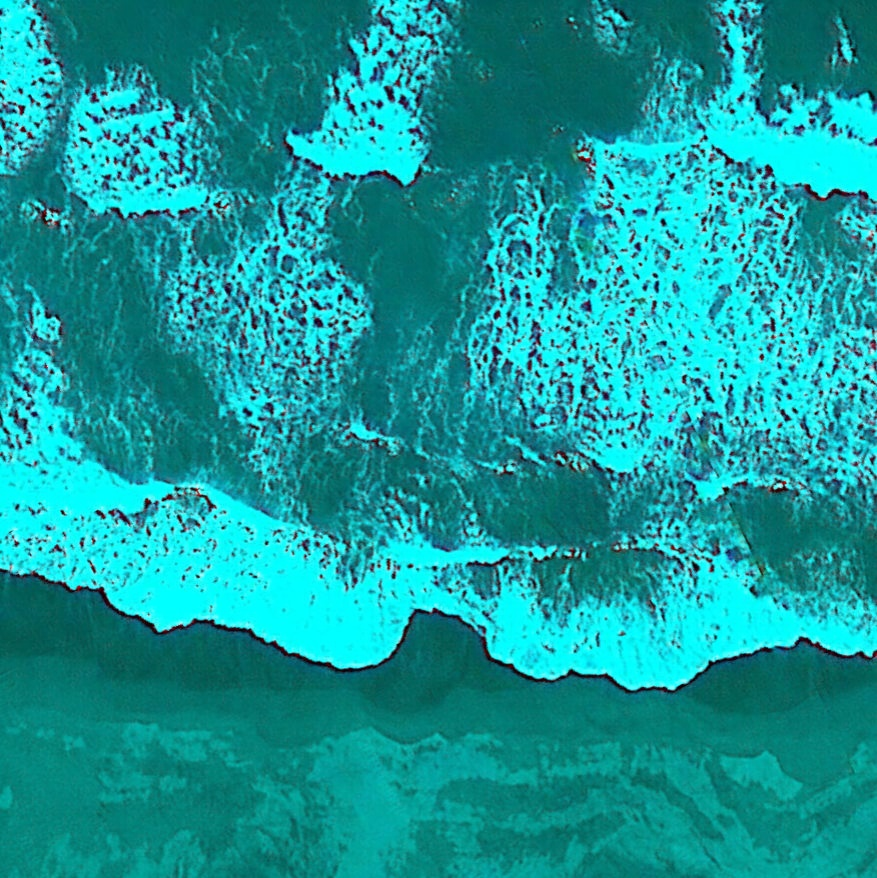rip_current: (298, 146, 571, 489)
